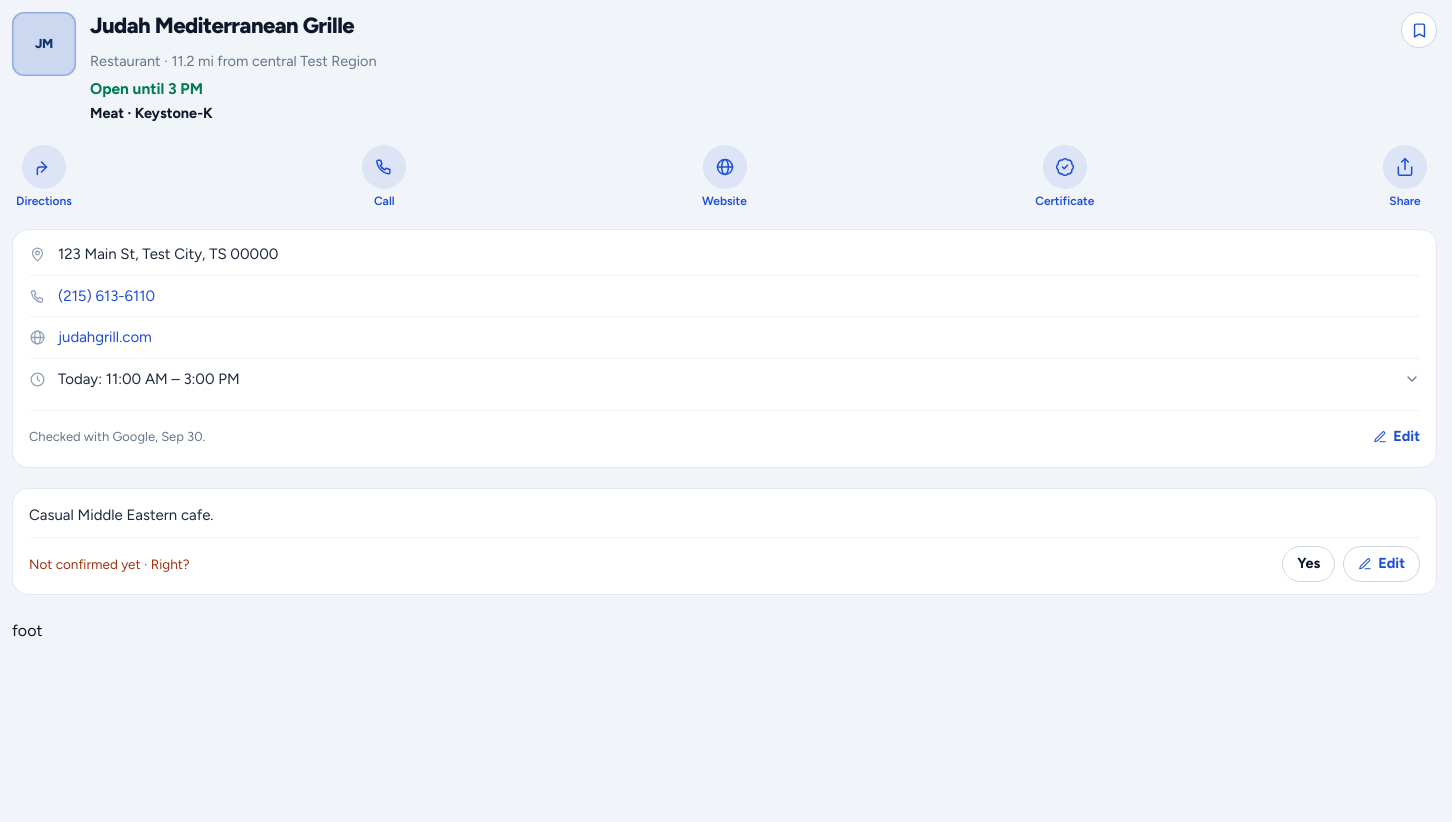
Test case: ListingView — the main thing › hours never lead (Oct 6): today’s are a line of the contact box, the week a tap away, Google’s part said at its foot
Click the button "Today: 11:00 AM – 3:00 PM" at (149, 379), box [58,369,1420,390]
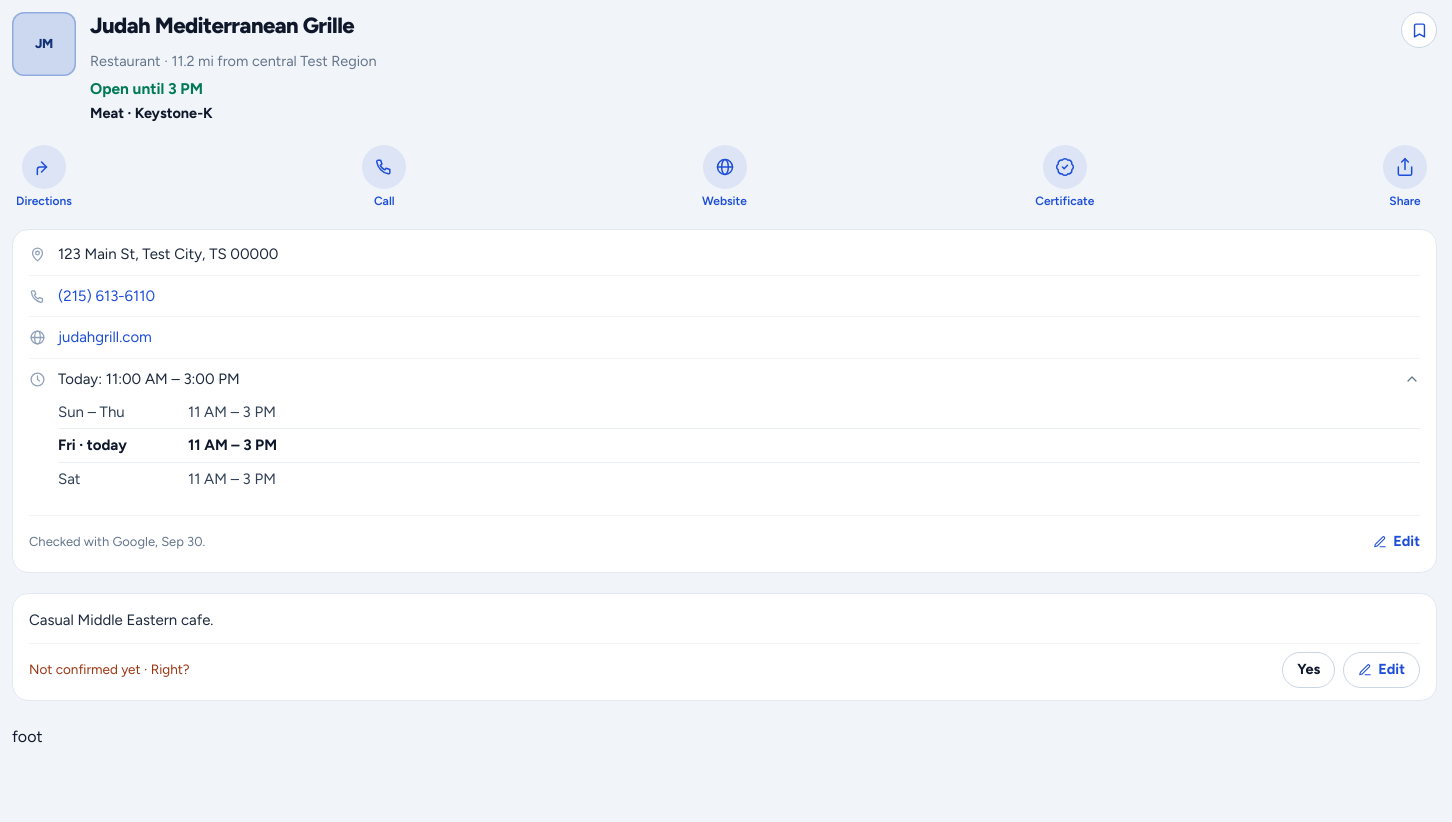
Expected: the text with test id "listing-google" reads "Checked with Google, Sep 30.", [29,534,205,549]
Expected: the button "Today: 11:00 AM – 3:00 PM" is expanded, [58,369,1420,390]
Expected: the element with test id "listing-details" shows "11 AM – 3 PM", [188,402,276,420]
